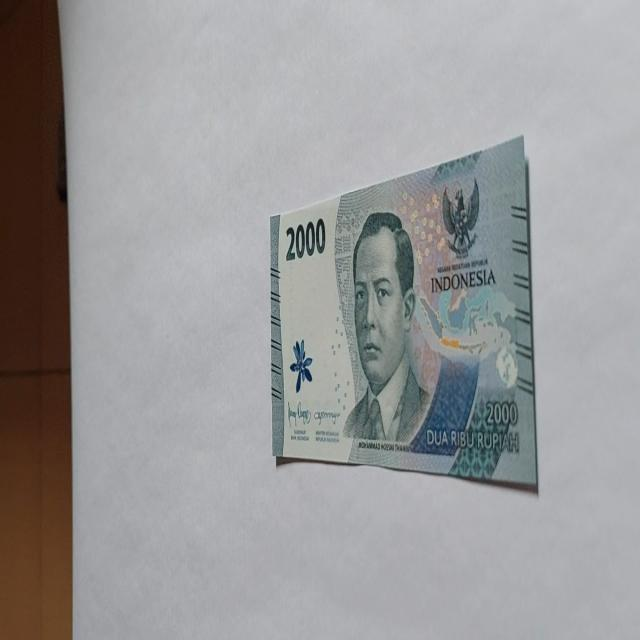dua ribu rupiah: (269, 134, 538, 491), (342, 210, 432, 446)
